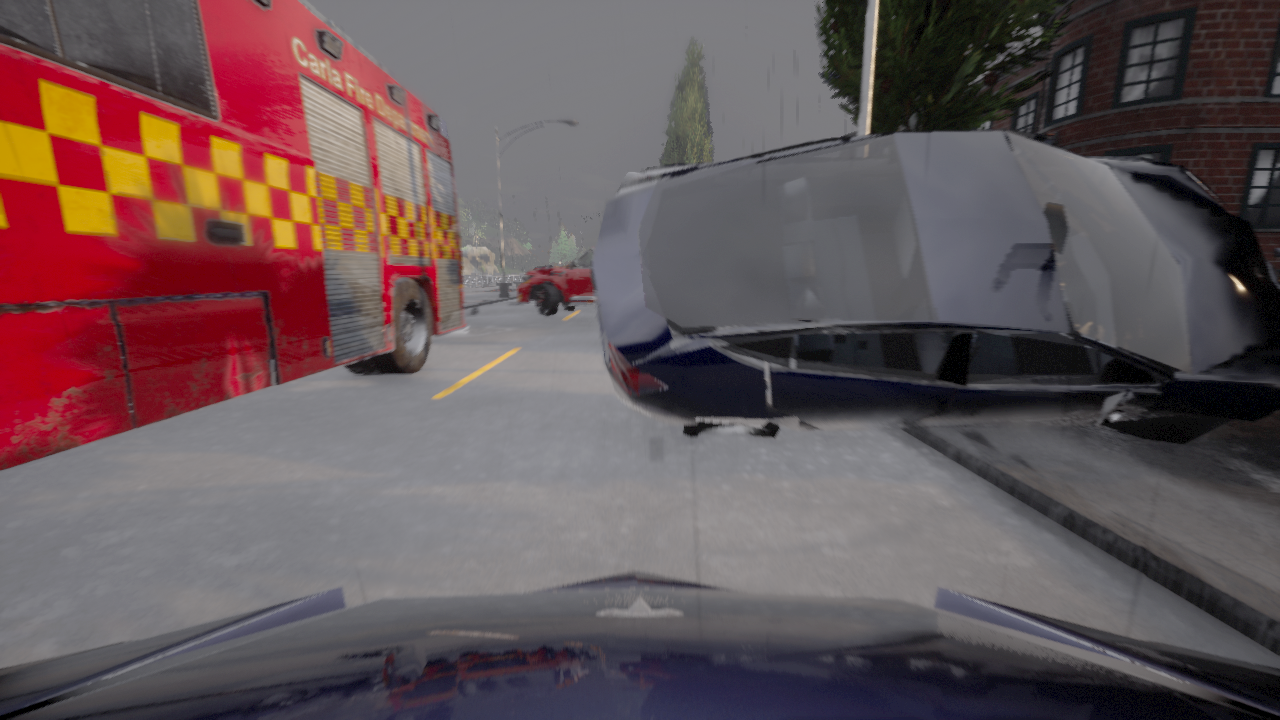cyclist: (592, 128, 1279, 444), (0, 569, 1279, 719), (518, 246, 595, 316), (523, 266, 555, 279)
